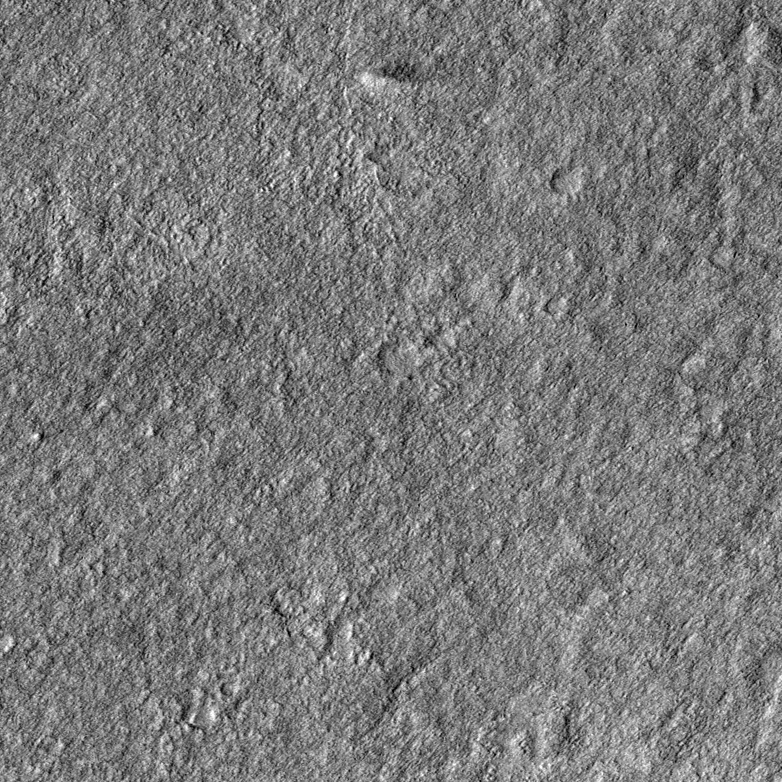dust_devil: (354, 55, 427, 100)
